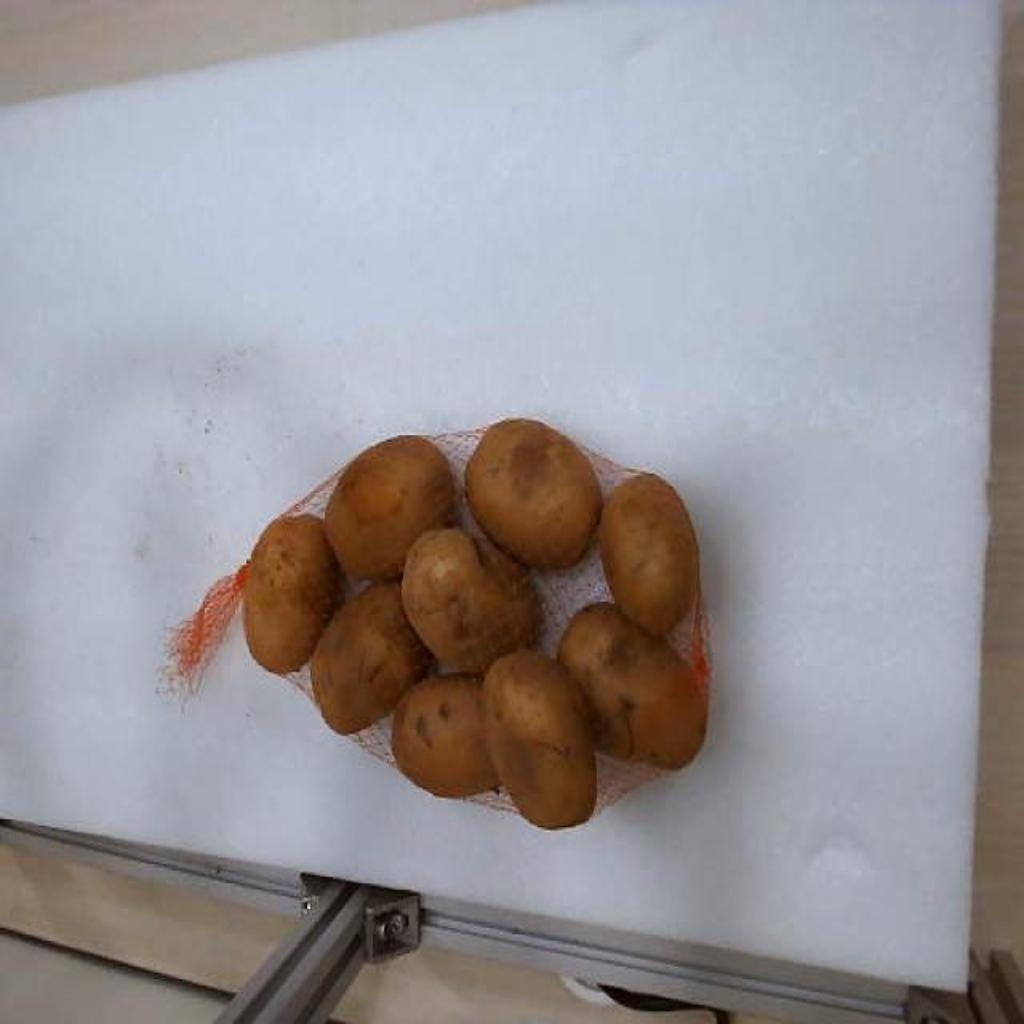potato: (558, 603, 708, 769), (466, 419, 602, 567), (484, 651, 596, 829), (402, 528, 536, 671), (310, 581, 432, 733), (324, 435, 454, 577), (242, 515, 344, 673), (598, 472, 698, 633), (392, 675, 500, 797)
